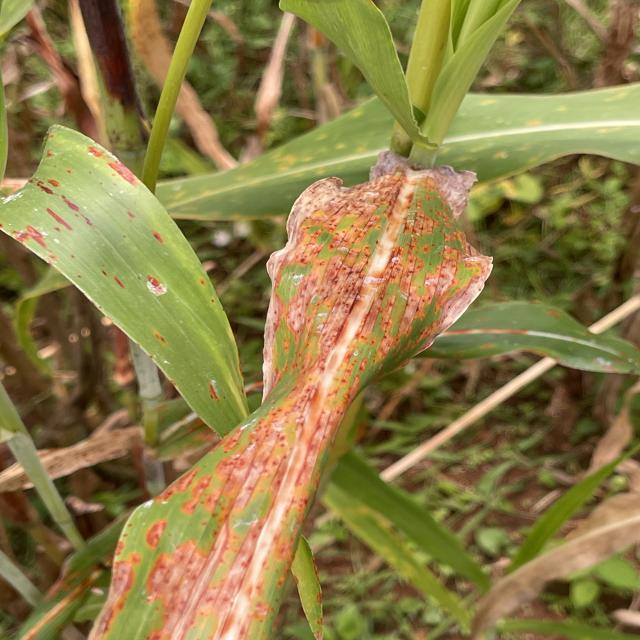millet_healthy: (138, 89, 640, 222), (272, 0, 480, 157)
millet_rust: (90, 151, 491, 640), (0, 125, 248, 436), (253, 294, 640, 382), (436, 491, 640, 640), (0, 430, 210, 491)
